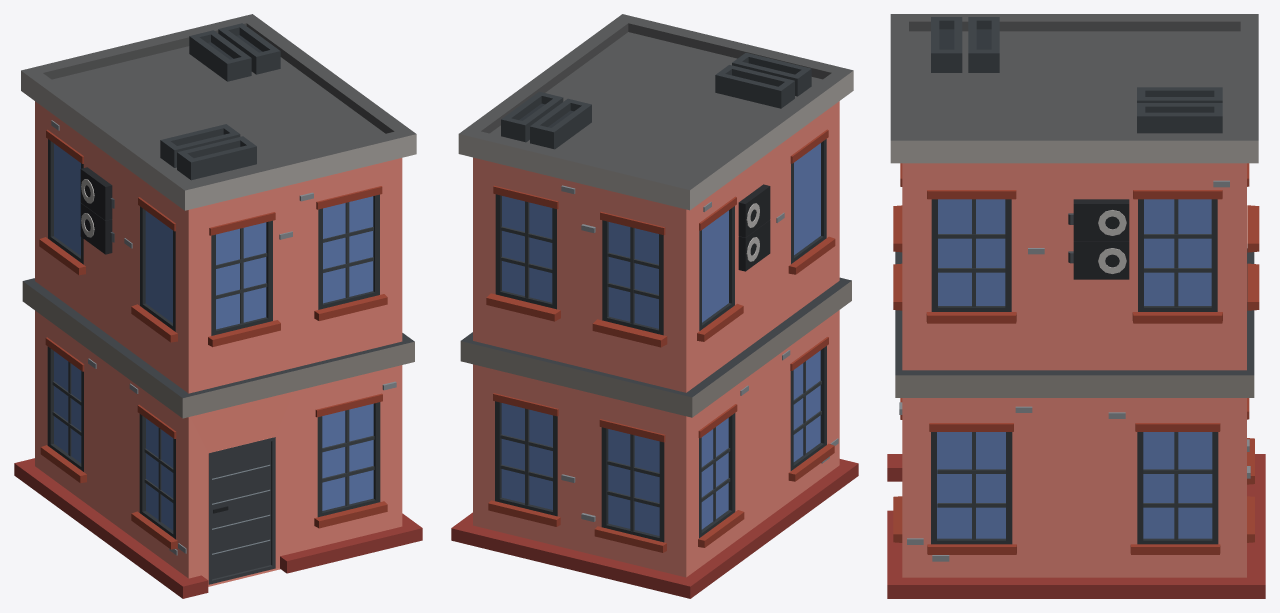
Rendered from Building_6.fbx.
3 views of the same model, side by side, from view 1: azimuth 30°, elevation 25°; view 2: azimuth 150°, elevation 25°; view 3: azimuth 270°, elevation 25° (orthographic). The views are drawn at different scales.
Parts seen in each view (by area): view 1: Building_6; view 2: Building_6; view 3: Building_6.
Part boxes in pixels (bbox=[...]): Building_6: bbox=[14, 14, 422, 598]; Building_6: bbox=[451, 14, 858, 598]; Building_6: bbox=[887, 14, 1265, 598].
Bounding box in the file's own units: 578 × 959 × 704.
